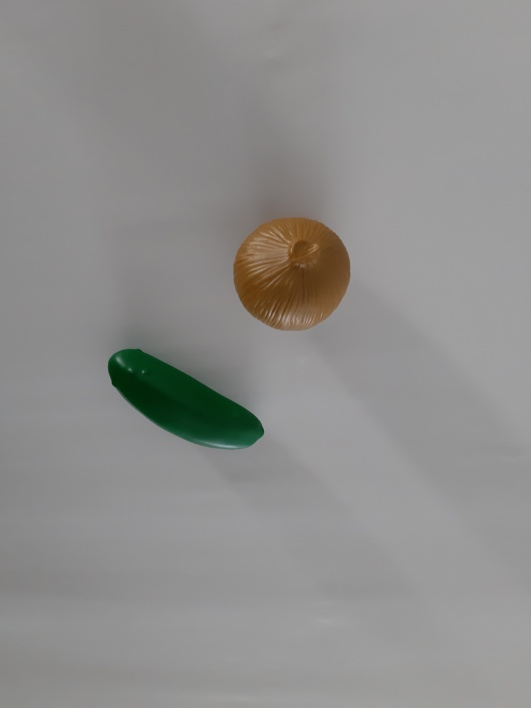cucumber: (83, 331, 282, 484)
onion: (197, 203, 378, 351)
